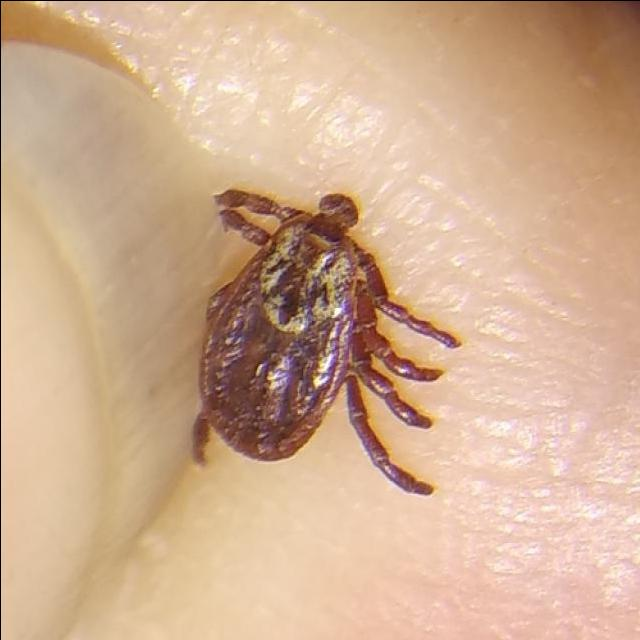Dermacentor Reticulatus-F: (189, 187, 461, 496)
